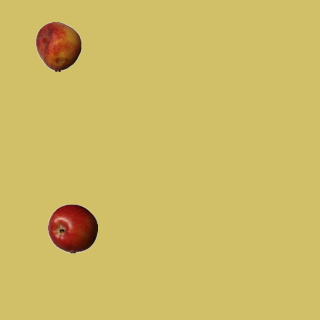Apple Braeburn: (47, 203, 97, 253)
Peach: (33, 21, 83, 71)
